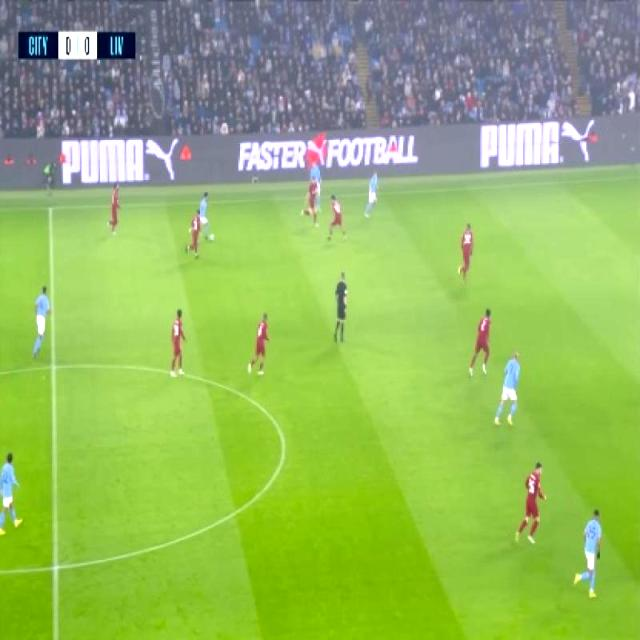halfcircle_bottom: (42, 548, 68, 586)
halfcircle_top: (39, 348, 64, 382)
midline_top_intersection: (40, 194, 60, 223)
